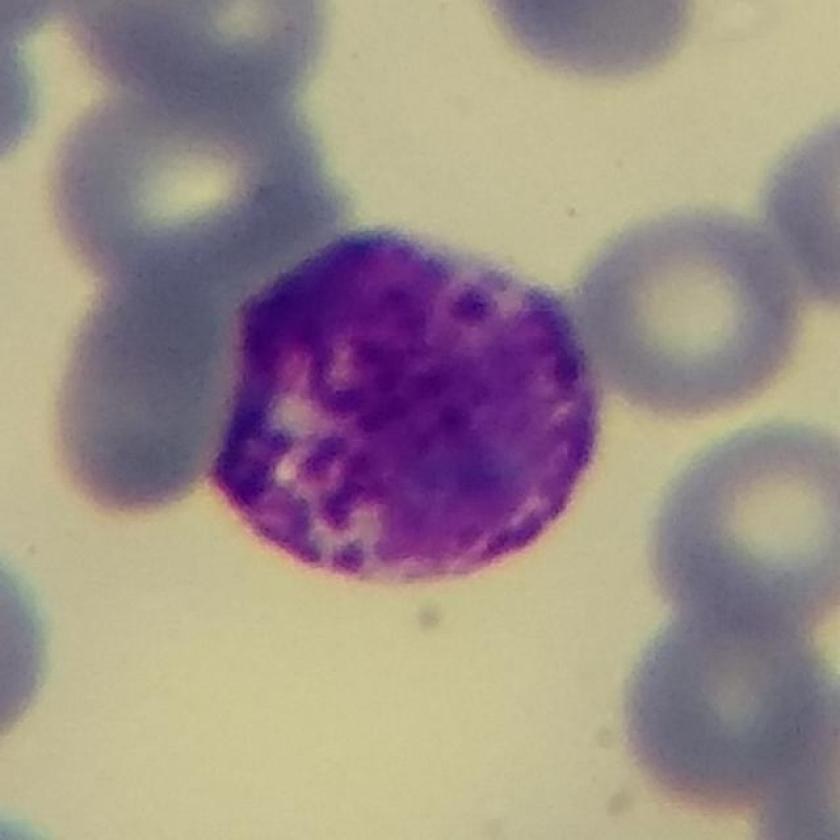basophil: (212, 214, 626, 606)
